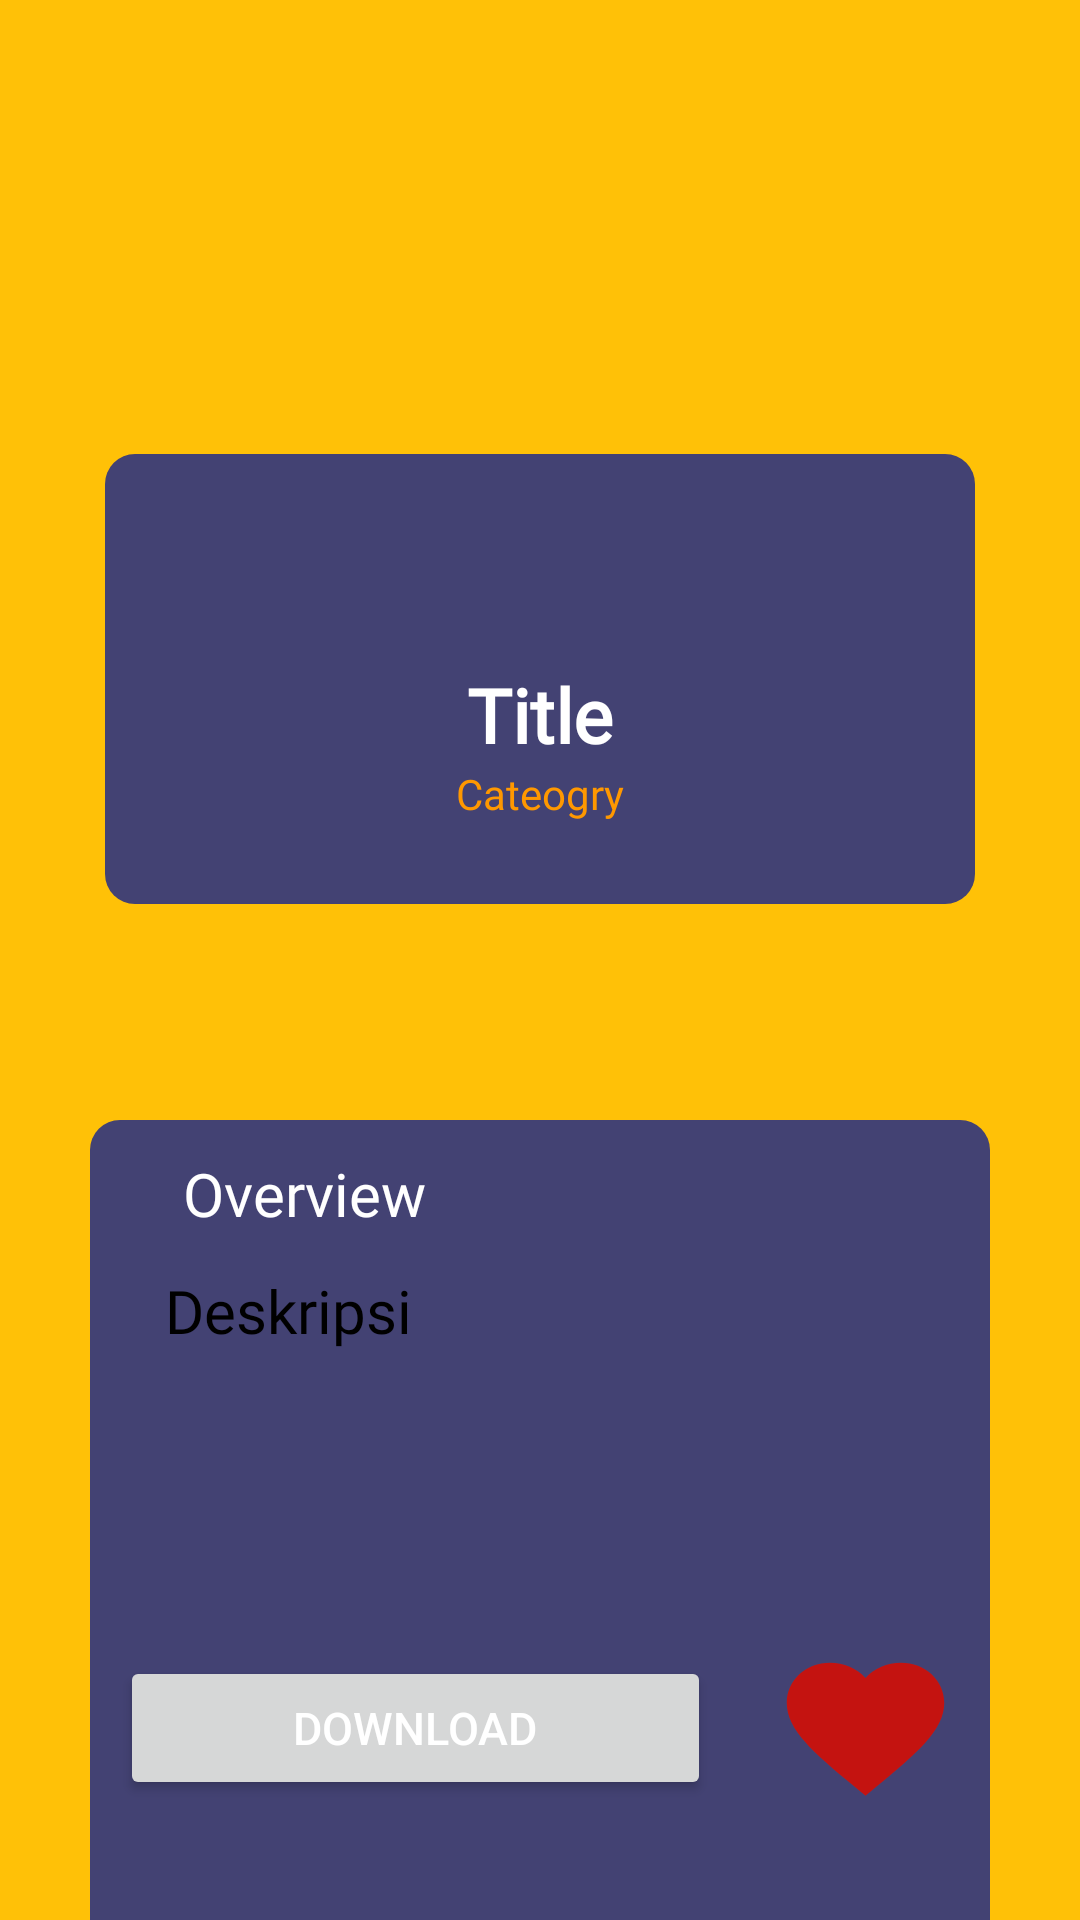

Named icons in this screenshot (1080px×1920px) and their centers, [x,y]:
favorite: [865,1729]
